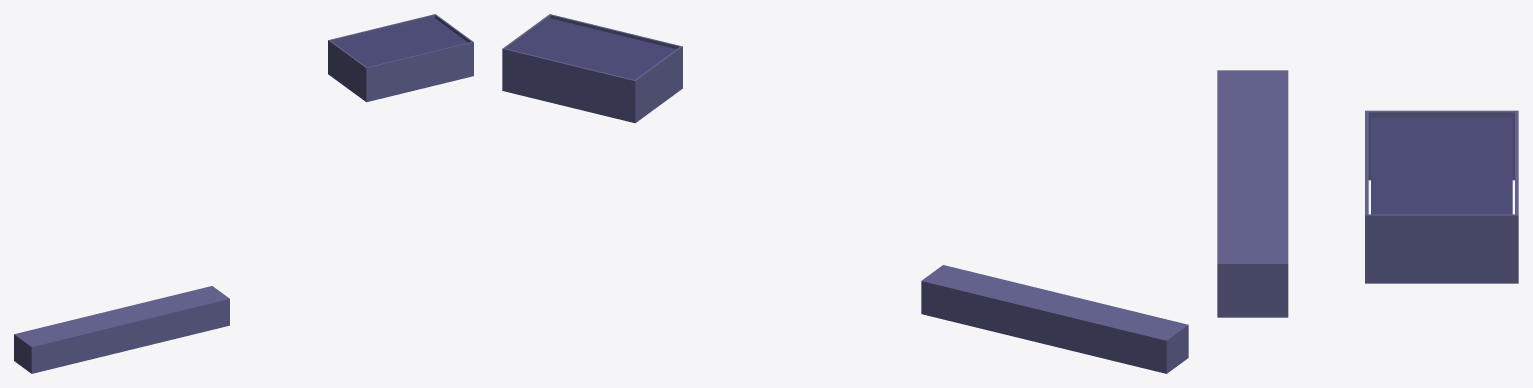
File: PF-L130_ballast_pad.glb
3 renders of one model, left to right at view 1: azimuth 30°, elevation 25°; view 2: azimuth 150°, elevation 25°; view 3: azimuth 270°, elevation 25°, orthographic. The views are drawn at different scales.
Visible parts, largest first — view 1: 002 pony ballast 0.625 t per side (steel plates on the sprun, 000 ballast pocket PL12 + shear lugs (750 kg max each side), 001 ballast plates 800x480x25 A36, up to 9 per side (removab; view 2: 002 pony ballast 0.625 t per side (steel plates on the sprun, 000 ballast pocket PL12 + shear lugs (750 kg max each side), 001 ballast plates 800x480x25 A36, up to 9 per side (removab; view 3: 002 pony ballast 0.625 t per side (steel plates on the sprun, 001 ballast plates 800x480x25 A36, up to 9 per side (removab, 000 ballast pocket PL12 + shear lugs (750 kg max each side).
Part boxes in pixels (x1,y1,x2,y2): 002 pony ballast 0.625 t per side (steel plates on the sprun: (14, 286, 229, 373); 000 ballast pocket PL12 + shear lugs (750 kg max each side): (328, 14, 473, 102); 001 ballast plates 800x480x25 A36, up to 9 per side (removab: (333, 17, 467, 67); 002 pony ballast 0.625 t per side (steel plates on the sprun: (921, 265, 1188, 373); 000 ballast pocket PL12 + shear lugs (750 kg max each side): (502, 14, 682, 123); 001 ballast plates 800x480x25 A36, up to 9 per side (removab: (509, 18, 676, 79); 002 pony ballast 0.625 t per side (steel plates on the sprun: (1217, 70, 1288, 317); 001 ballast plates 800x480x25 A36, up to 9 per side (removab: (1371, 117, 1512, 214); 000 ballast pocket PL12 + shear lugs (750 kg max each side): (1365, 110, 1518, 283).
Size of the model in its own units: 3745 by 1404 by 1020.
